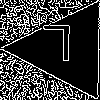L: (41, 24, 74, 71)
